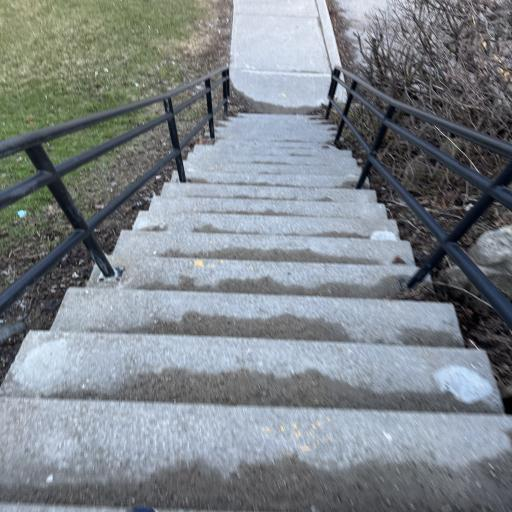Stairs: (0, 114, 512, 512)
